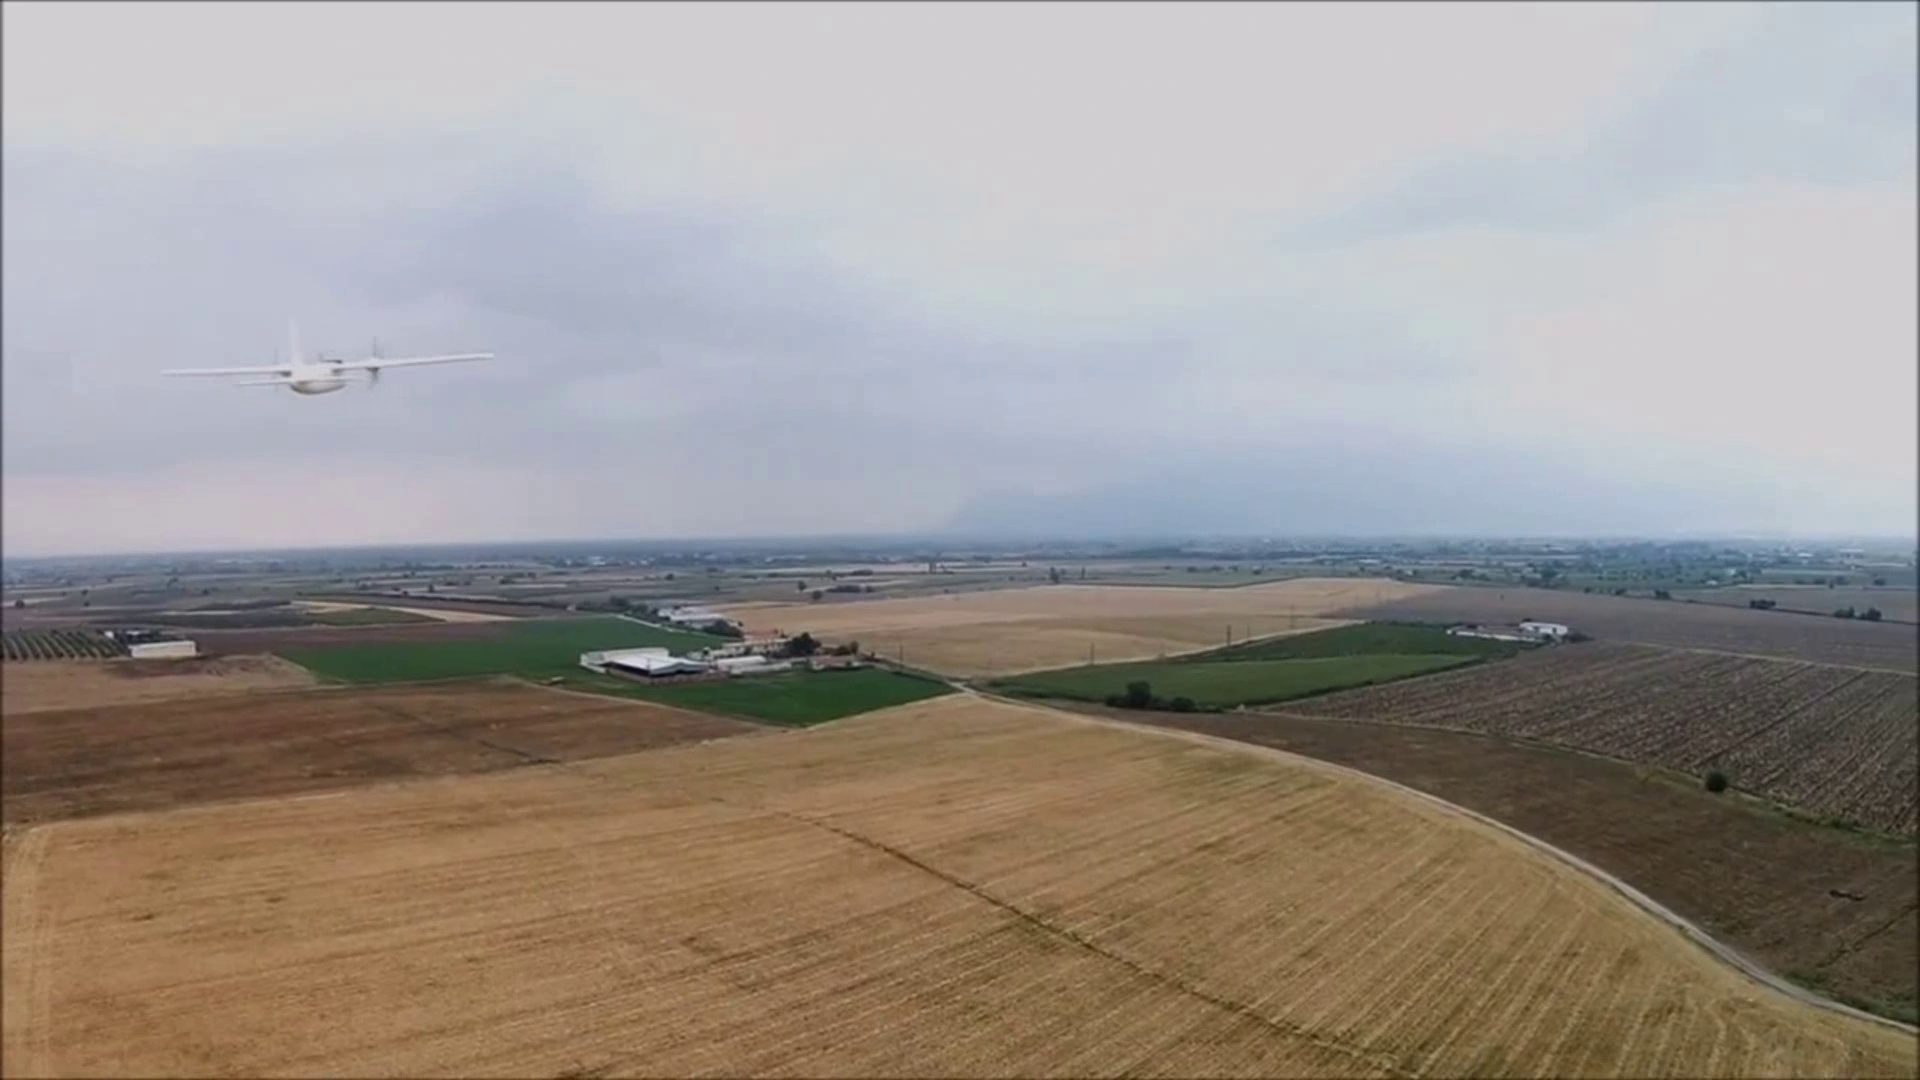airplane: (164, 320, 498, 398)
